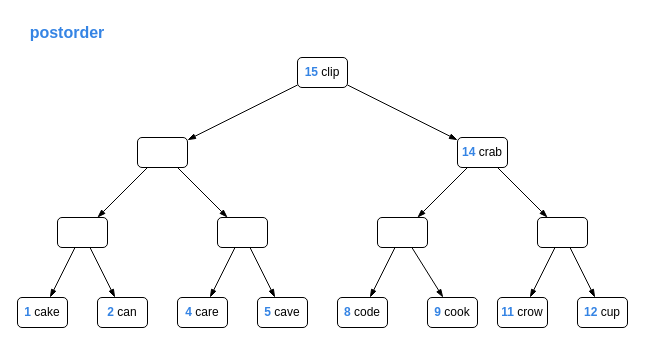
This 645x345 diagram has some shape labels left out. Each missing label, with the centre of its shape:
"10 coin" goes at (x=402, y=232).
"13 cube" goes at (x=562, y=232).
"3 call" goes at (x=82, y=232).
"6 cat" goes at (x=242, y=232).
"7 car" goes at (x=162, y=152).
